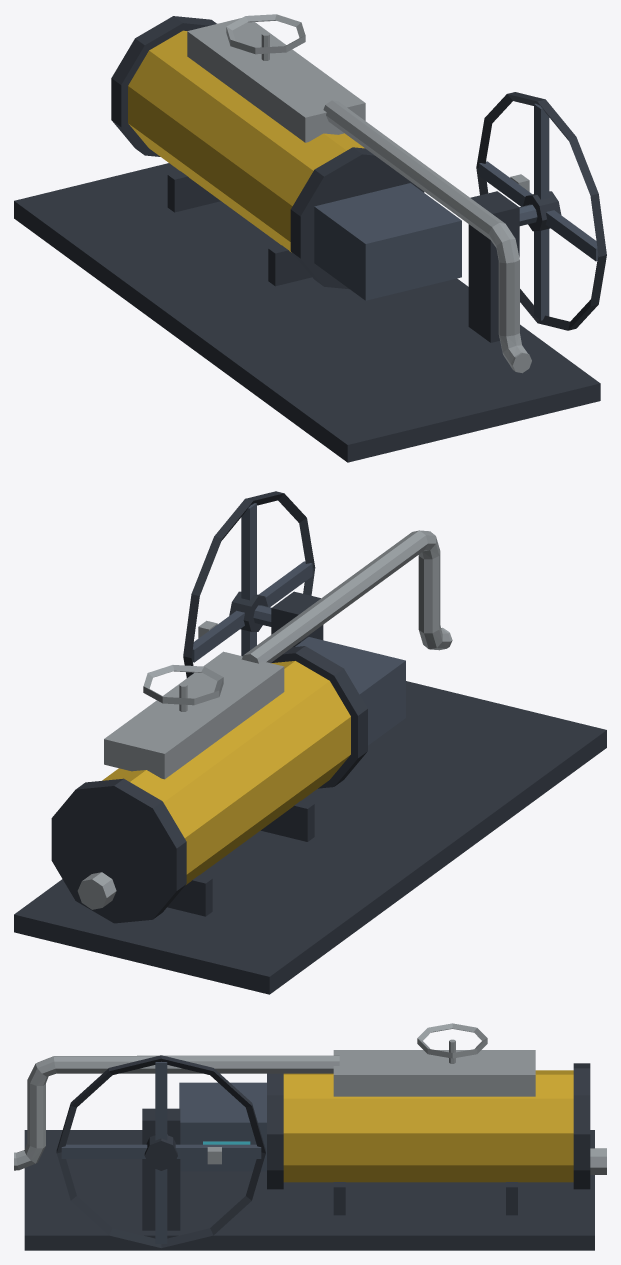
The model's file is steam_engine.obj.
The picture shows the model from 3 angles, top to bottom: view 1: azimuth 30°, elevation 25°; view 2: azimuth 150°, elevation 25°; view 3: azimuth 270°, elevation 25°; orthographic projection. The views are drawn at different scales.
Parts seen in each view (by area): view 1: body, part; view 2: body, part; view 3: body, part.
Part boxes in pixels (x1,y1,x2,y2): body: [14, 14, 600, 462]; part: [476, 92, 606, 330]; body: [14, 530, 606, 994]; part: [183, 491, 315, 677]; body: [14, 1023, 606, 1250]; part: [56, 1055, 265, 1248].
Size of the model in its own units: 2.4 by 1.88 by 4.99.
